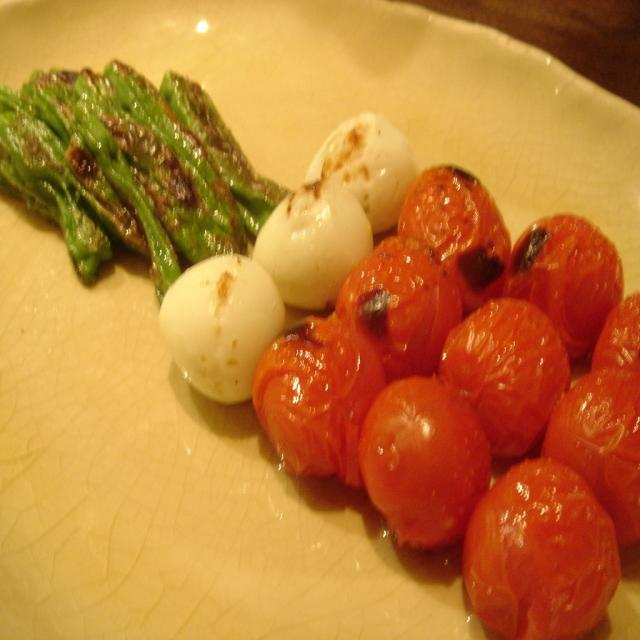Tomato: (255, 162, 640, 640), (364, 377, 497, 565)
